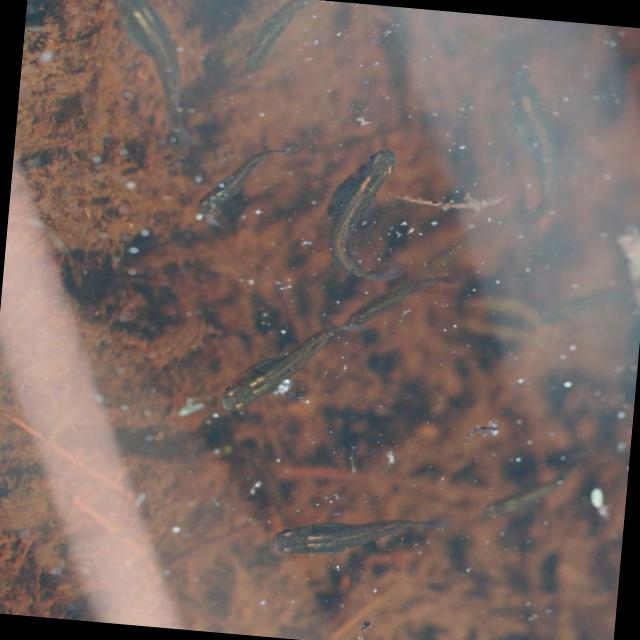Sivrisinek Baligi: (264, 484, 454, 578), (306, 136, 418, 292), (210, 310, 350, 416), (90, 0, 199, 132), (190, 127, 300, 220), (232, 0, 322, 76), (477, 464, 578, 528)
